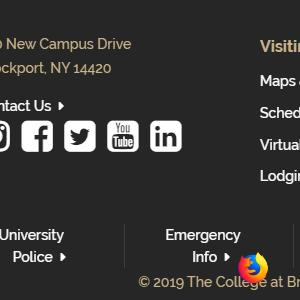firefox: (238, 251, 268, 283)
